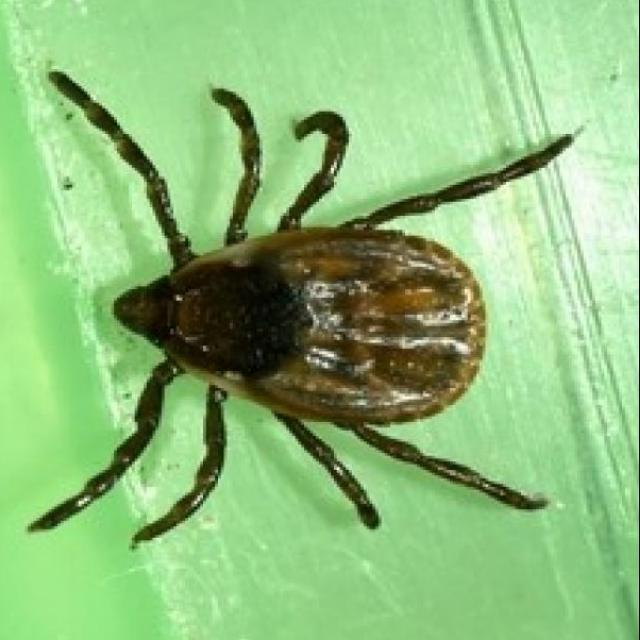Rhipicephalus Sanguineus-F: (26, 72, 576, 549)
